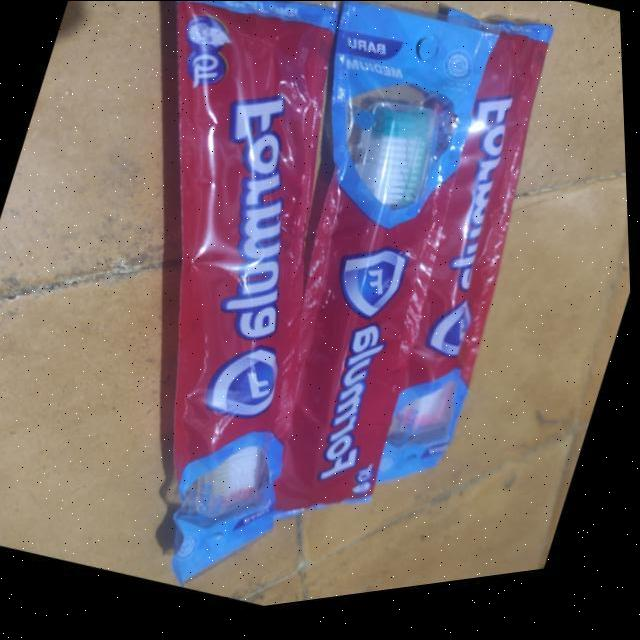toothbrush: (298, 103, 451, 492), (205, 54, 303, 524), (411, 76, 529, 450)
